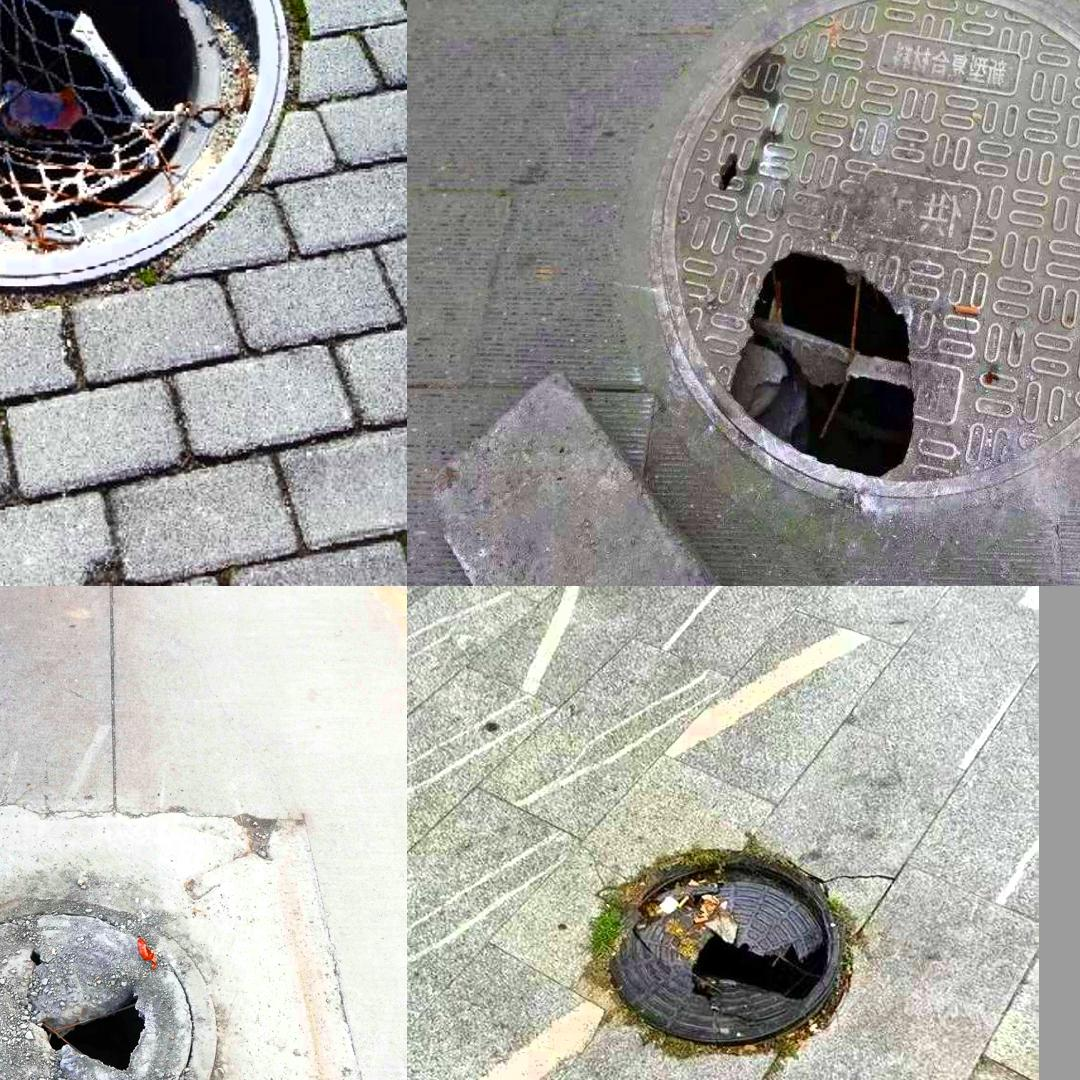broke: (661, 0, 1080, 496), (0, 0, 333, 322), (571, 832, 893, 1074), (0, 900, 217, 1080)
